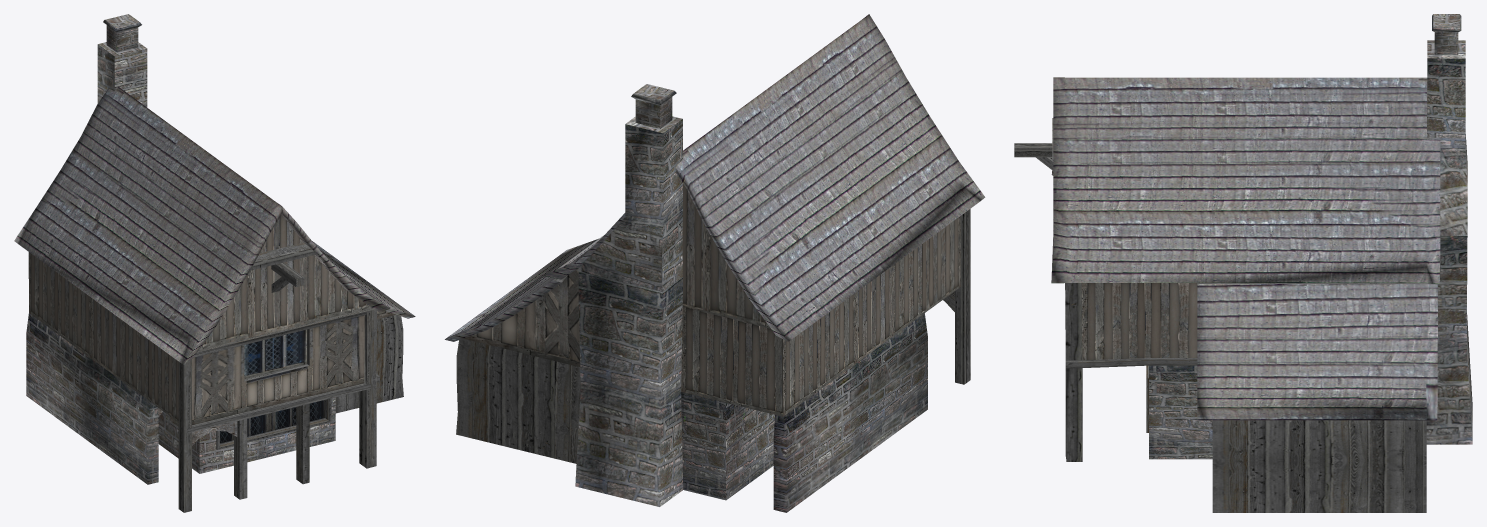
3 views of the same model, side by side, from view 1: azimuth 30°, elevation 25°; view 2: azimuth 150°, elevation 25°; view 3: azimuth 270°, elevation 25° (orthographic). The views are drawn at different scales.
Visible parts, largest first — view 1: U3DMesh; view 2: U3DMesh; view 3: U3DMesh.
Part boxes in pixels (x1,y1,x2,y2): U3DMesh: (14, 14, 415, 512); U3DMesh: (445, 14, 985, 512); U3DMesh: (1014, 14, 1472, 512).
Size of the model in its own units: 462 by 514 by 543.
1 material, 1 textured.
